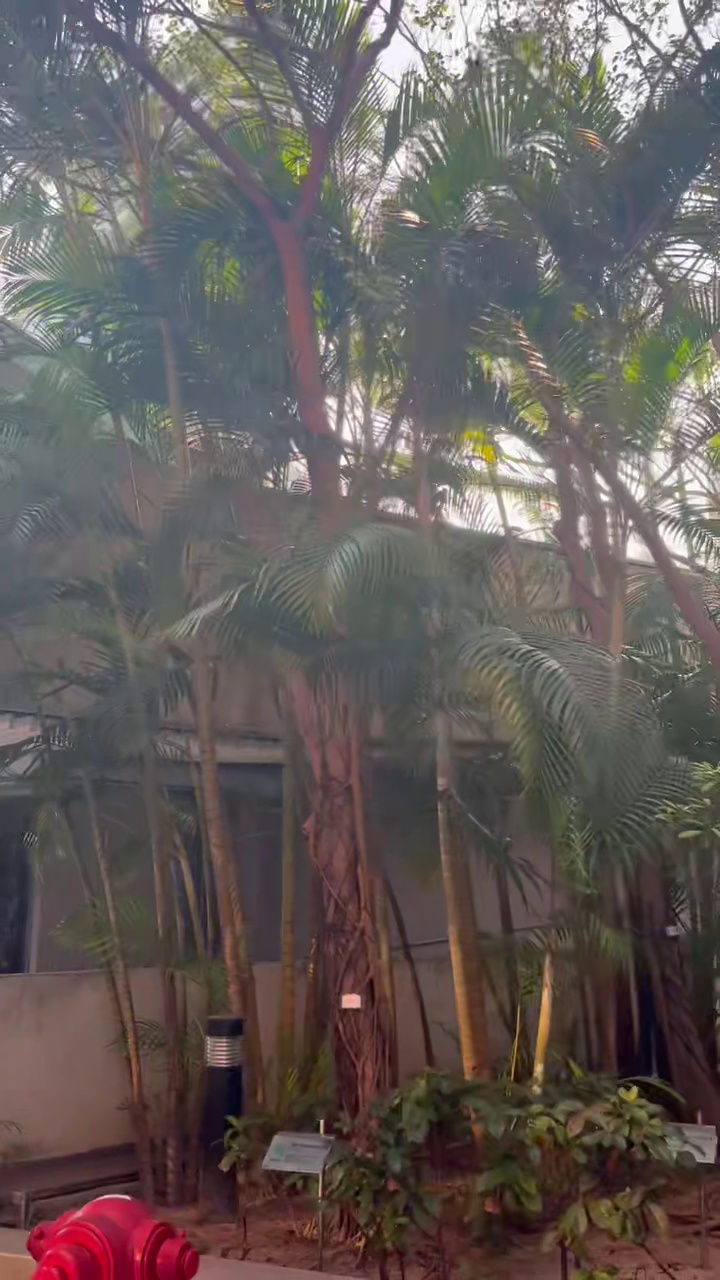Ficus benjamina: (67, 0, 417, 1117)
